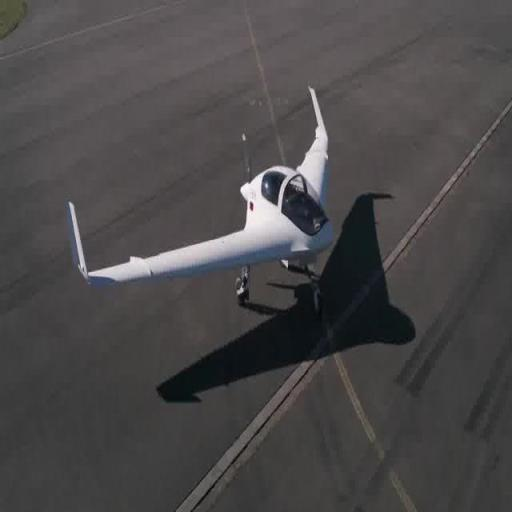uav: (64, 66, 338, 371)
